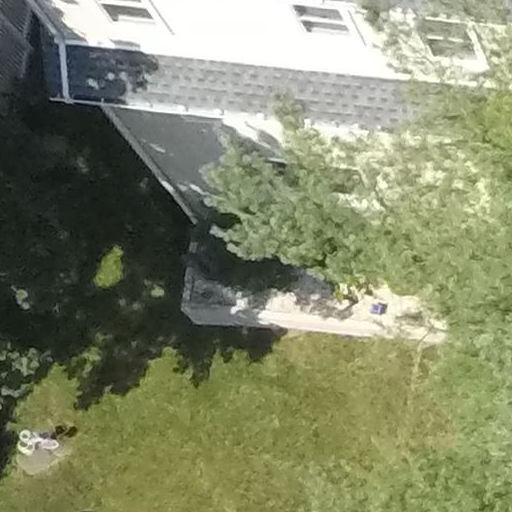container: (16, 438, 33, 452)
